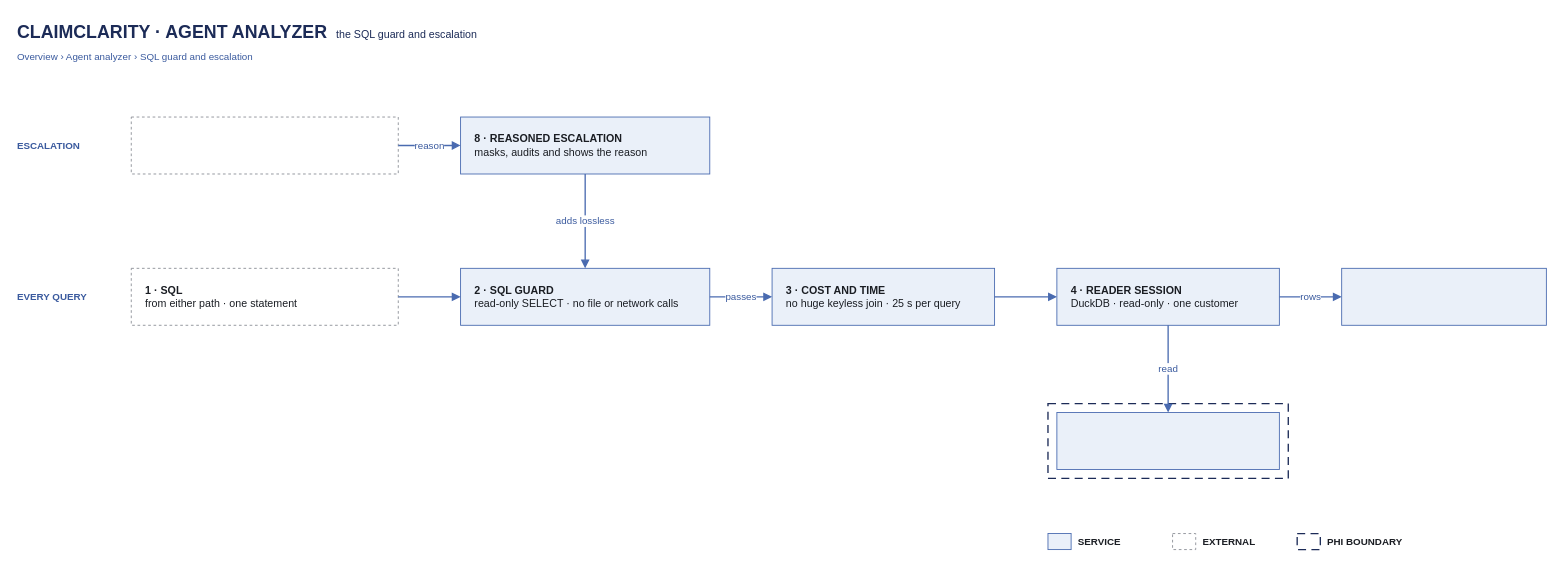
Image size: 1562x570. Some labels were removed from this diagram. The shapes that lost their labels are listed below. From the top down, each one's centre as x and y in pixels, then its label:
the point at 264,145: 7 · ESCALATE COMMAND the agent states why gold is not enough
the point at 1443,296: 5 · RESULT LIMITS 1,000 rows · ids redacted
the point at 1167,440: 6 · CUSTOMER B'S DATA gold · lossless after escalation
